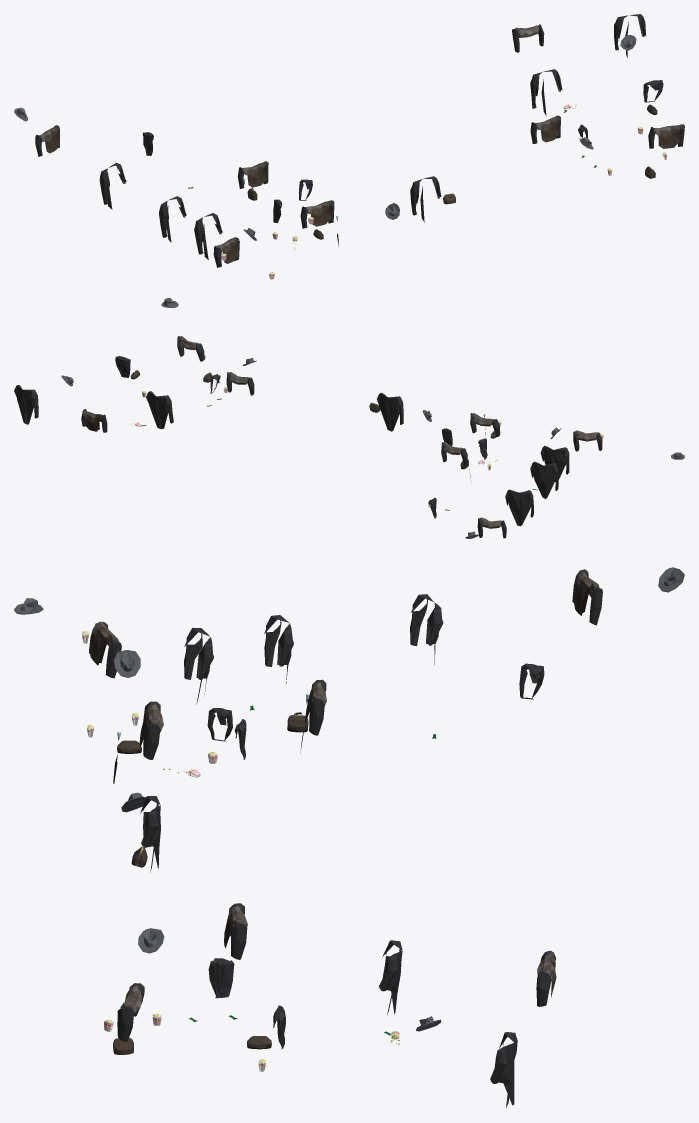
The model's file is AmbientObjects_OLD.glb.
The picture shows the model from 3 angles, top to bottom: view 1: azimuth 30°, elevation 25°; view 2: azimuth 150°, elevation 25°; view 3: azimuth 270°, elevation 25°; orthographic projection. The views are drawn at different scales.
Visible parts, largest first — view 1: chairsProps roselandTheatre; view 2: chairsProps roselandTheatre; view 3: chairsProps roselandTheatre.
Part boxes in pixels (x1,y1,x2,y2): chairsProps roselandTheatre: (14,14,684,307); chairsProps roselandTheatre: (14,336,684,538); chairsProps roselandTheatre: (14,567,684,1107).
Size of the model in its own units: 1603 by 153 by 892.
Materials: 1 (1 with a texture image).
